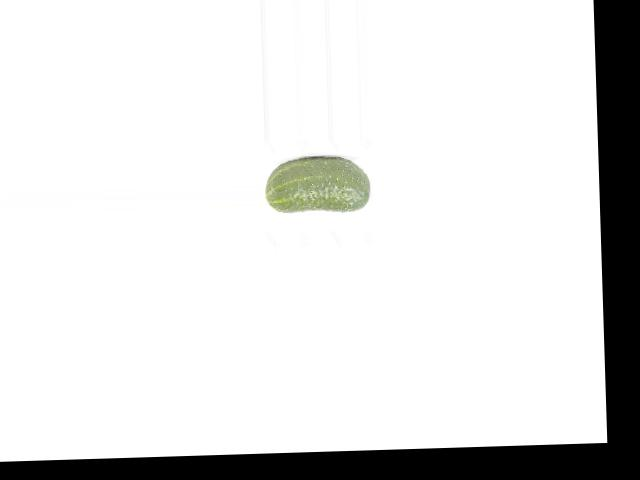cucumber: (264, 154, 371, 212)
